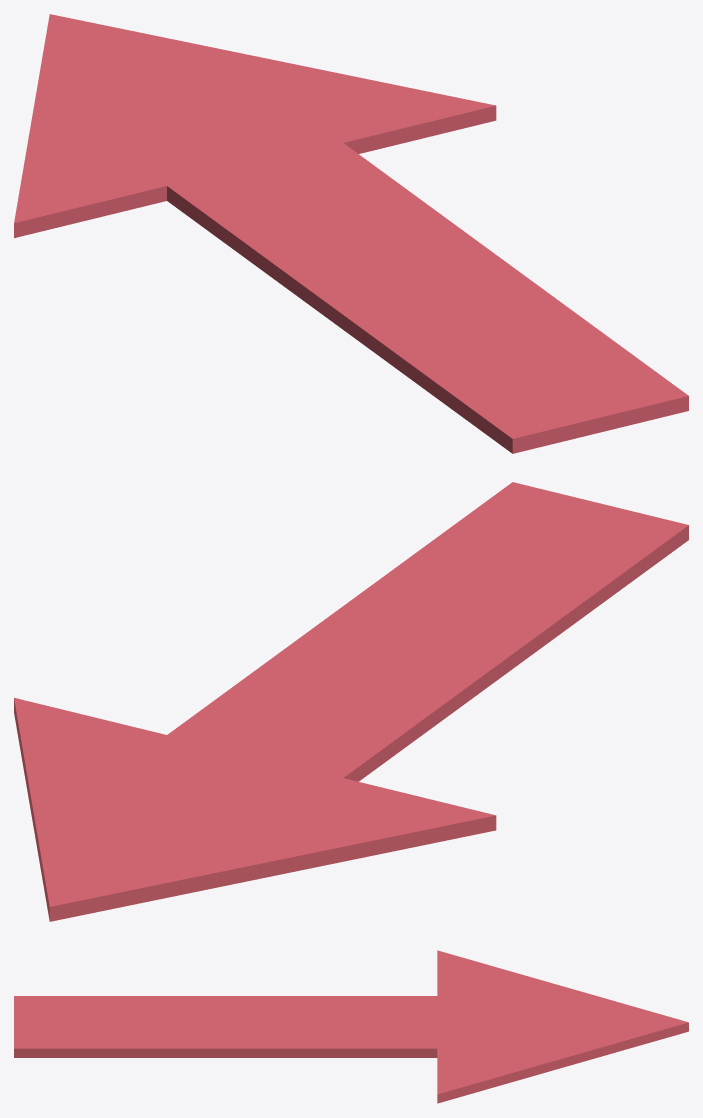
Rendered from InputArrow.fbx.
3 views of the same model, one above another, from view 1: azimuth 30°, elevation 25°; view 2: azimuth 150°, elevation 25°; view 3: azimuth 270°, elevation 25° (orthographic). The views are drawn at different scales.
Visible parts, largest first — view 1: Arrow.002; view 2: Arrow.002; view 3: Arrow.002.
Part boxes in pixels (x1,y1,x2,y2): Arrow.002: (14, 14, 688, 453); Arrow.002: (14, 482, 688, 921); Arrow.002: (14, 950, 688, 1103).
Size of the model in its own units: 1.58 by 0.0468 by 3.12.
